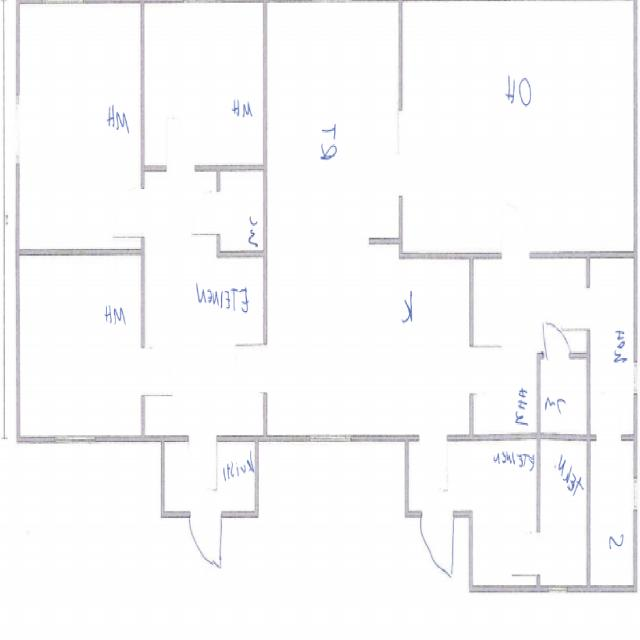door: (190, 512, 220, 570), (422, 511, 452, 567), (188, 436, 217, 490), (167, 116, 195, 171), (502, 203, 530, 257), (141, 347, 172, 395), (419, 436, 447, 489), (236, 344, 266, 393), (470, 346, 500, 394), (114, 188, 144, 236), (512, 532, 540, 575), (562, 287, 590, 330), (192, 191, 220, 234), (545, 310, 570, 358), (597, 394, 621, 441)
